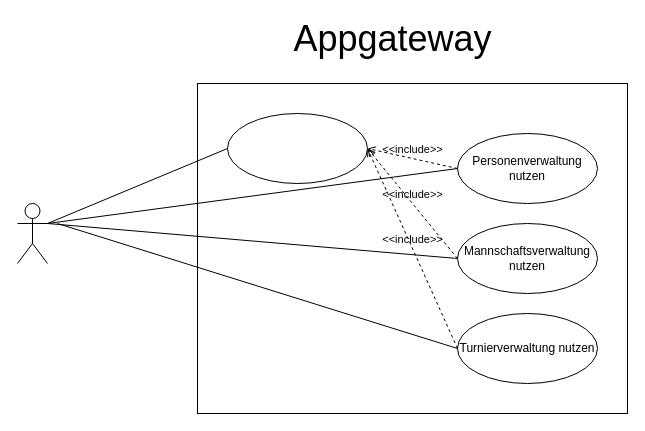
Image size: 645x431. Some labels were removed from this diagram. Here are the shapes that lost their labels. From the top down, the centre of each, then its label:
(297,148): Identifizieren und Authentifizieren
(32,233): User
